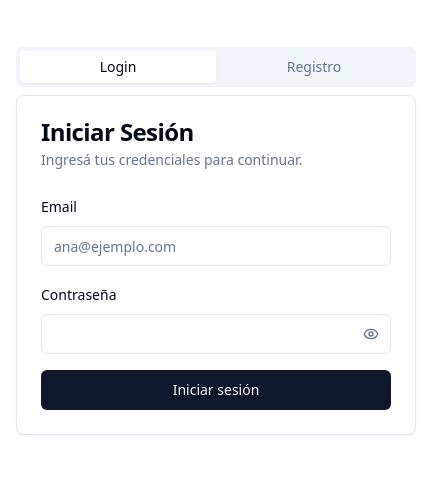
it: AuthPage [Componente] › Modo Login › Caso 11: debería mostrar error de la API si las credenciales son incorrectas (401)
This screenshot has width=433, height=483.
Step 1. Type "wrong@example.com" into the field labelled "Email" → x=216, y=246, box [41,226,391,266]
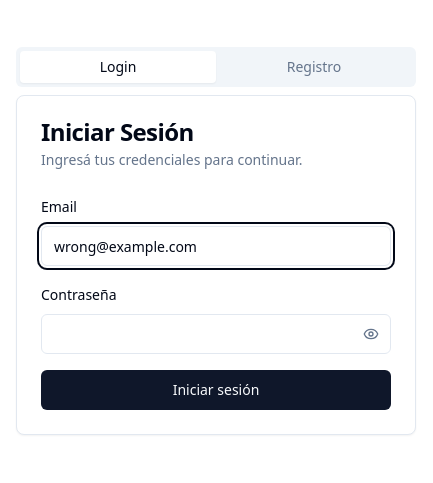
Step 2. Type "WrongPass1" into the password field labelled "Contraseña" → x=216, y=334, box [41,314,391,354]
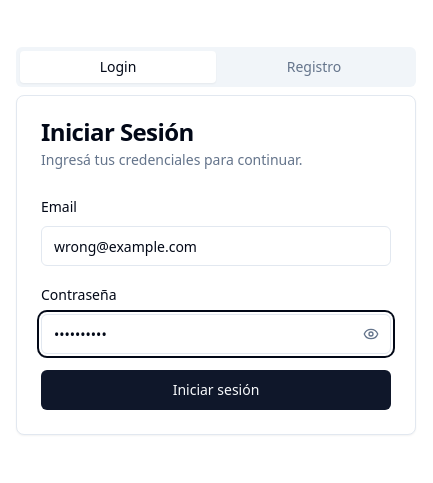
Step 3. Click the button "Iniciar sesión" → x=216, y=390, box [41,370,391,410]
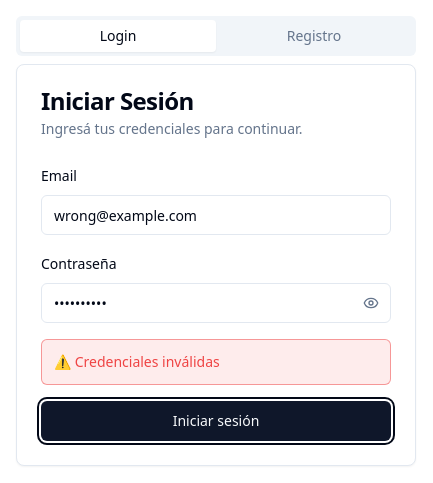
Now the text "⚠ Credenciales inválidas" is shown, box [41,339,391,385]
